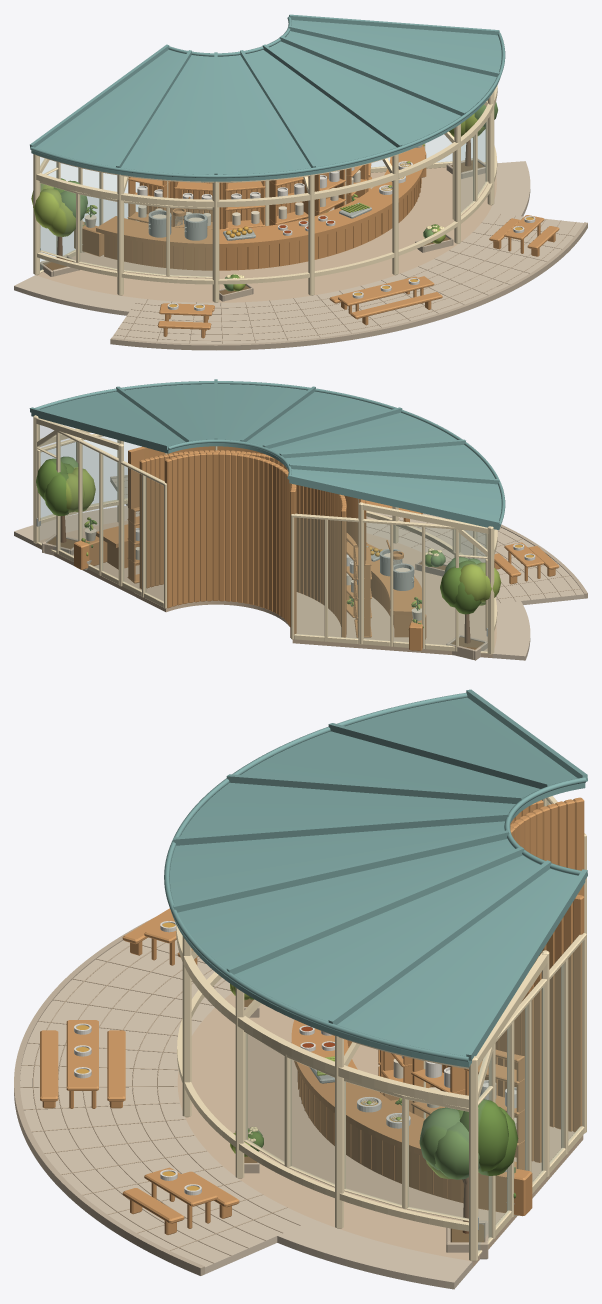
3 renders of one model, top to bottom at view 1: azimuth 30°, elevation 25°; view 2: azimuth 150°, elevation 25°; view 3: azimuth 270°, elevation 25°, orthographic. The views are drawn at different scales.
Visible parts, largest first — view 1: R 独立扇面金属屋顶, S 扇形面馆室内地面, A 外圈玻璃围护, S 外摆使用区局部铺地, R 扇形放射金属立缝, A 弧形奶油格架横梁, I 弧形木服务柜, A 奶油色放射立柱, I 弧形出餐台面, S 外摆连续净通道, S 双端入口弧形步道, S 外摆铺地外沿 (+18 smaller); view 2: A 扇形端部围护, R 独立扇面金属屋顶, A 后勤凹弧背墙, A 后厨弧形实木背墙, S 扇形面馆室内地面, R 扇形放射金属立缝, L 乔木 · 枝干与树冠, S 外摆使用区局部铺地, A 外圈玻璃围护, S 双端入口弧形步道, R 屋顶弧形包边, A 奶油色放射立柱 (+18 smaller); view 3: R 独立扇面金属屋顶, S 外摆使用区局部铺地, S 扇形面馆室内地面, A 外圈玻璃围护, R 扇形放射金属立缝, A 扇形端部围护, S 外摆连续净通道, A 后勤凹弧背墙, A 弧形奶油格架横梁, A 奶油色放射立柱, S 双端入口弧形步道, L 乔木 · 枝干与树冠 (+18 smaller).
Boxes of the visible parts, x1,y1,x2,y2 form: R 独立扇面金属屋顶: (31, 20, 501, 181); S 扇形面馆室内地面: (37, 167, 496, 302); A 外圈玻璃围护: (39, 119, 488, 278); S 外摆使用区局部铺地: (112, 216, 583, 343); R 扇形放射金属立缝: (30, 14, 499, 174); A 弧形奶油格架横梁: (36, 85, 497, 284); I 弧形木服务柜: (104, 180, 419, 270); A 奶油色放射立柱: (33, 91, 494, 302); I 弧形出餐台面: (96, 147, 425, 247); S 外摆连续净通道: (129, 213, 520, 316); S 双端入口弧形步道: (14, 161, 530, 315); S 外摆铺地外沿: (110, 222, 587, 350); A 扇形端部围护: (36, 425, 488, 653); R 独立扇面金属屋顶: (31, 384, 501, 530); A 后勤凹弧背墙: (165, 452, 296, 637); A 后厨弧形实木背墙: (139, 450, 346, 637); S 扇形面馆室内地面: (35, 520, 496, 657); R 扇形放射金属立缝: (29, 379, 499, 526); L 乔木 · 枝干与树冠: (36, 456, 501, 643); S 外摆使用区局部铺地: (111, 477, 584, 604); A 外圈玻璃围护: (37, 433, 487, 630); S 双端入口弧形步道: (14, 505, 530, 660); R 屋顶弧形包边: (35, 381, 505, 526); A 奶油色放射立柱: (33, 415, 494, 654); R 独立扇面金属屋顶: (170, 697, 585, 1067); S 外摆使用区局部铺地: (20, 937, 277, 1274); S 扇形面馆室内地面: (177, 993, 583, 1267); A 外圈玻璃围护: (244, 1031, 478, 1221); R 扇形放射金属立缝: (173, 689, 587, 1060); A 扇形端部围护: (478, 796, 586, 1256); S 外摆连续净通道: (125, 966, 313, 1235); A 后勤凹弧背墙: (510, 797, 584, 1132); A 弧形奶油格架横梁: (176, 924, 468, 1231); A 奶油色放射立柱: (182, 936, 477, 1261); S 双端入口弧形步道: (277, 1219, 472, 1289); L 乔木 · 枝干与树冠: (419, 1099, 518, 1233).
Size of the model in its own units: 23.99 by 7.52 by 14.6.
